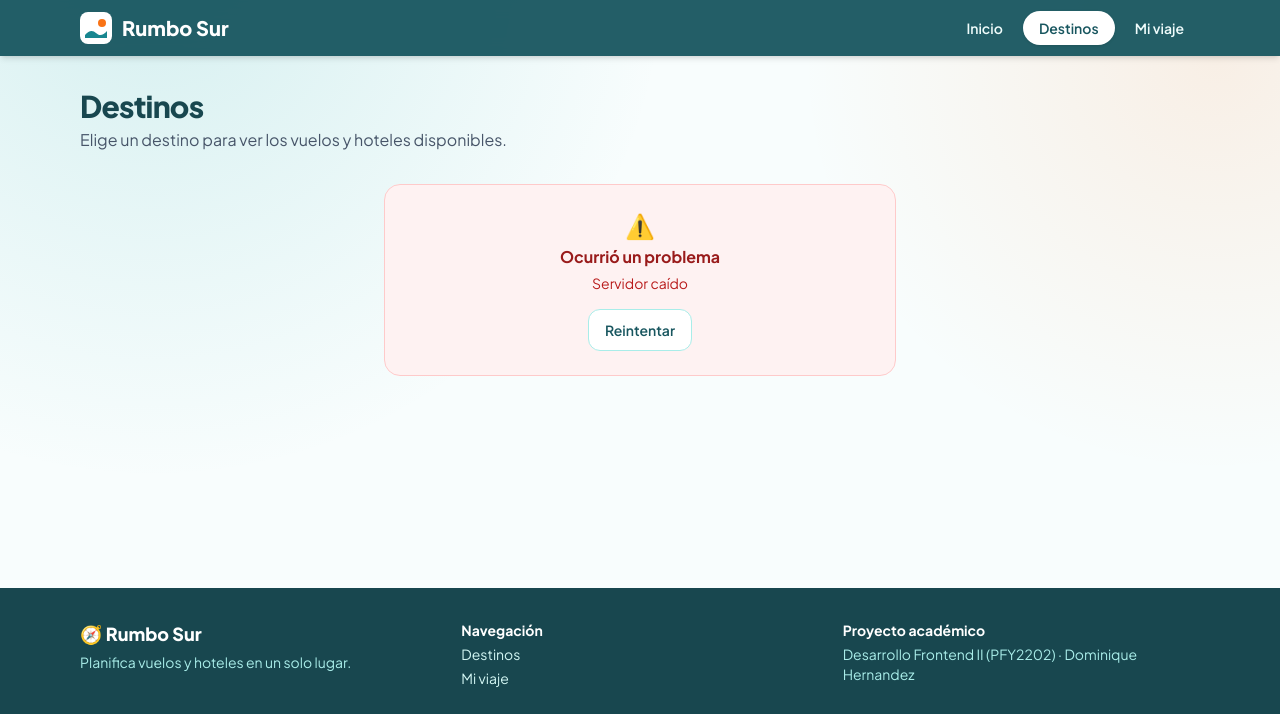
API REST mock: destinos › muestra un mensaje de error y permite reintentar cuando falla el servidor
Expected: the message shows "Servidor caído", top-left (592, 274), bottom-right (688, 292)
Click the button "Reintentar". click: click(640, 330)
box: top-left (588, 309), bottom-right (692, 351)
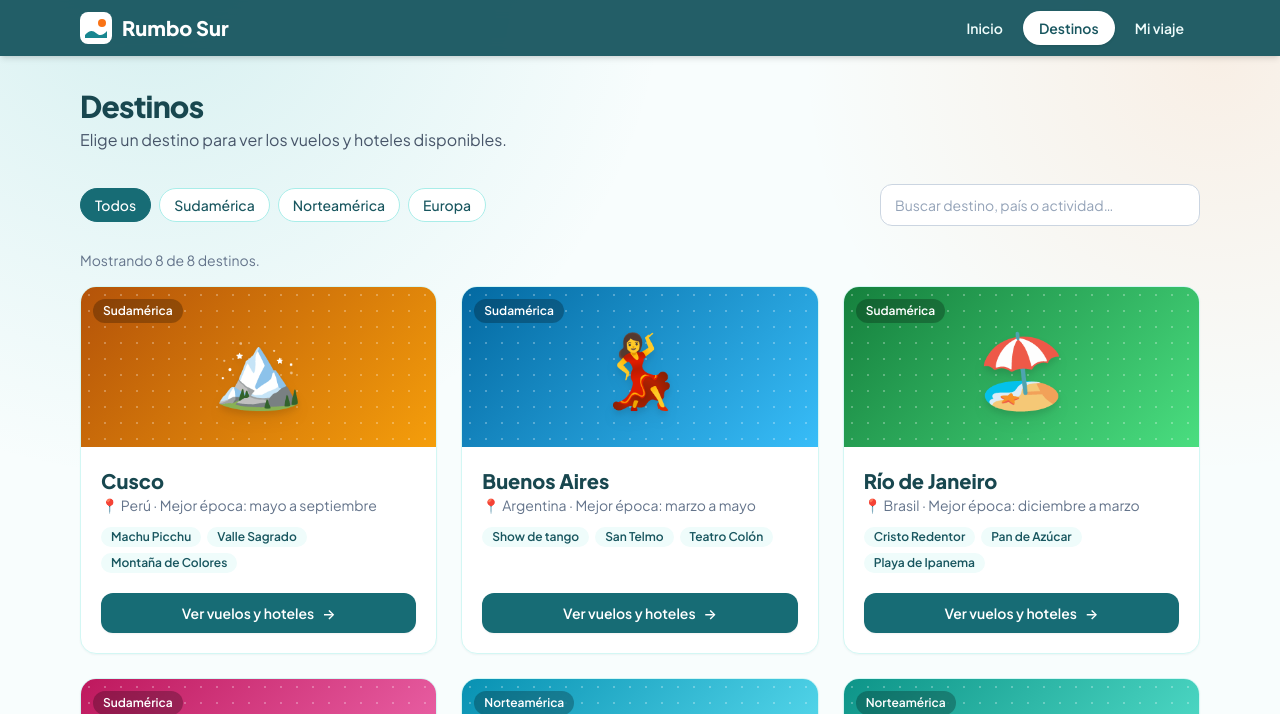
Expected: the heading "Cusco" is shown, top-left (101, 468), bottom-right (164, 493)
